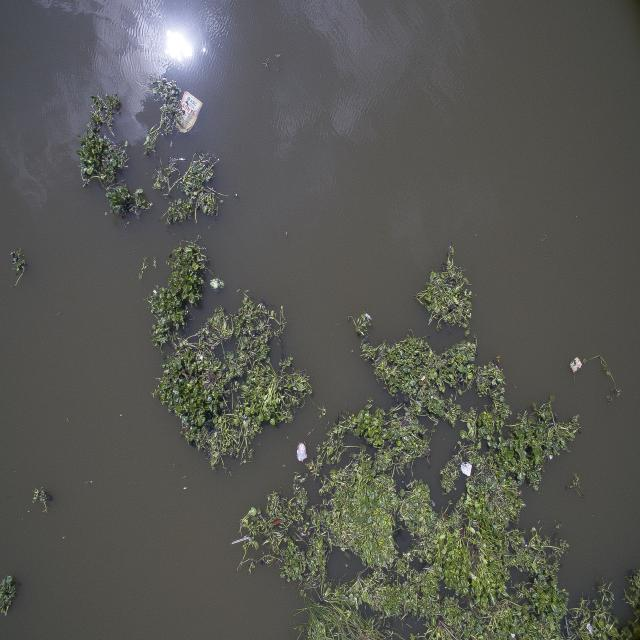plastic: (165, 89, 214, 148), (295, 440, 315, 472), (205, 275, 230, 299), (569, 351, 587, 383), (458, 463, 482, 482)
